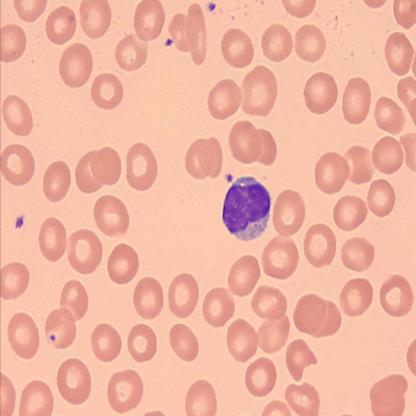Lymphocyte: (221, 172, 272, 243)
